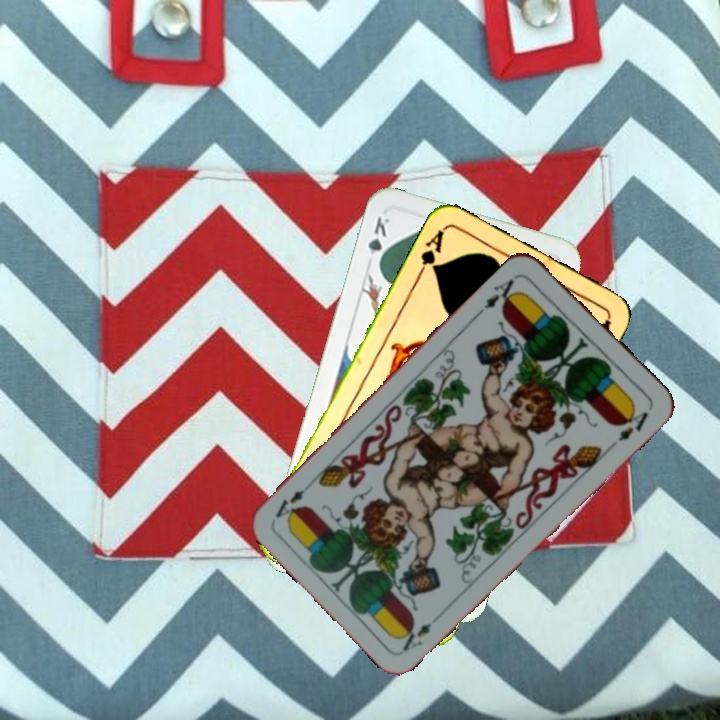EA: (394, 609, 445, 654), (475, 270, 523, 316)
GA: (412, 225, 447, 281)
GK: (364, 213, 392, 270)
